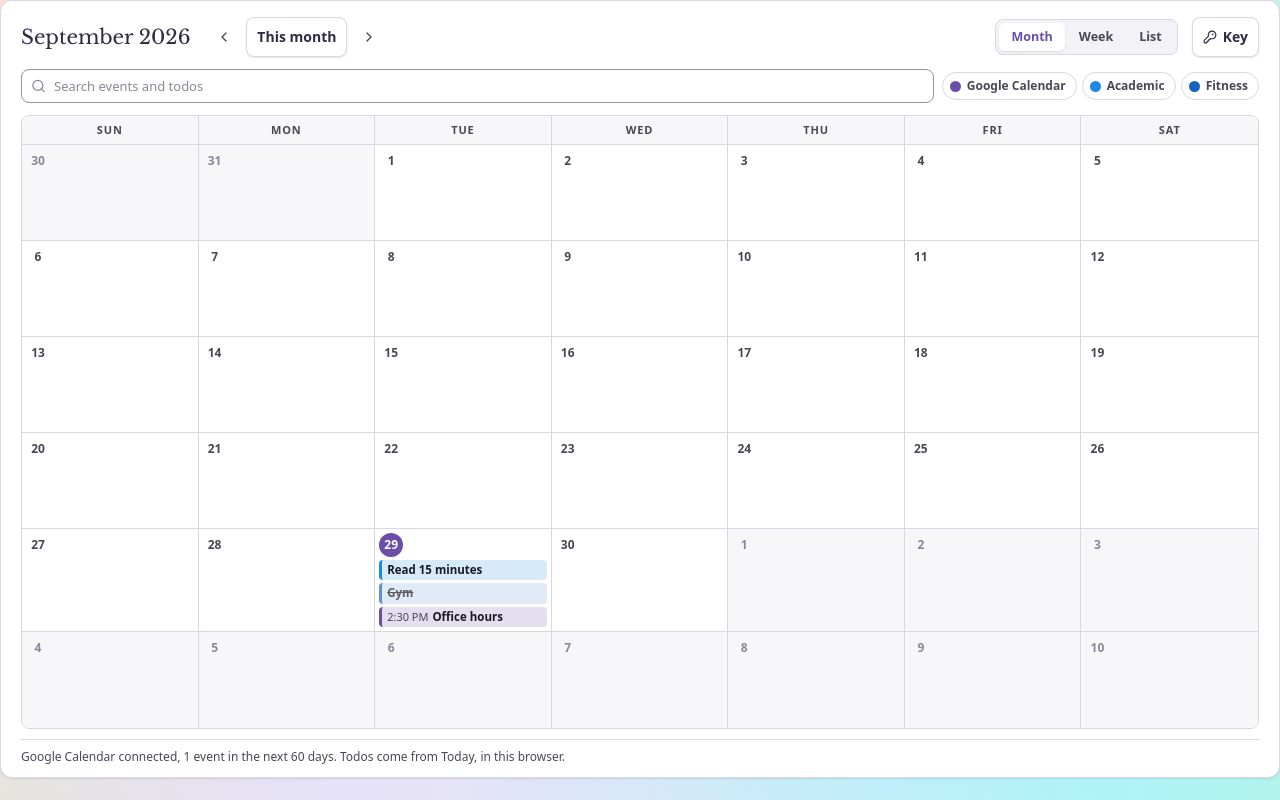
Test case: the full calendar, ported from the technical instructions master calendar › shows todos beside the events, opens either in a dialog, and switches to week and list views
Click the button titled "Office hours".
click(463, 617)  # box [379,607,547,627]
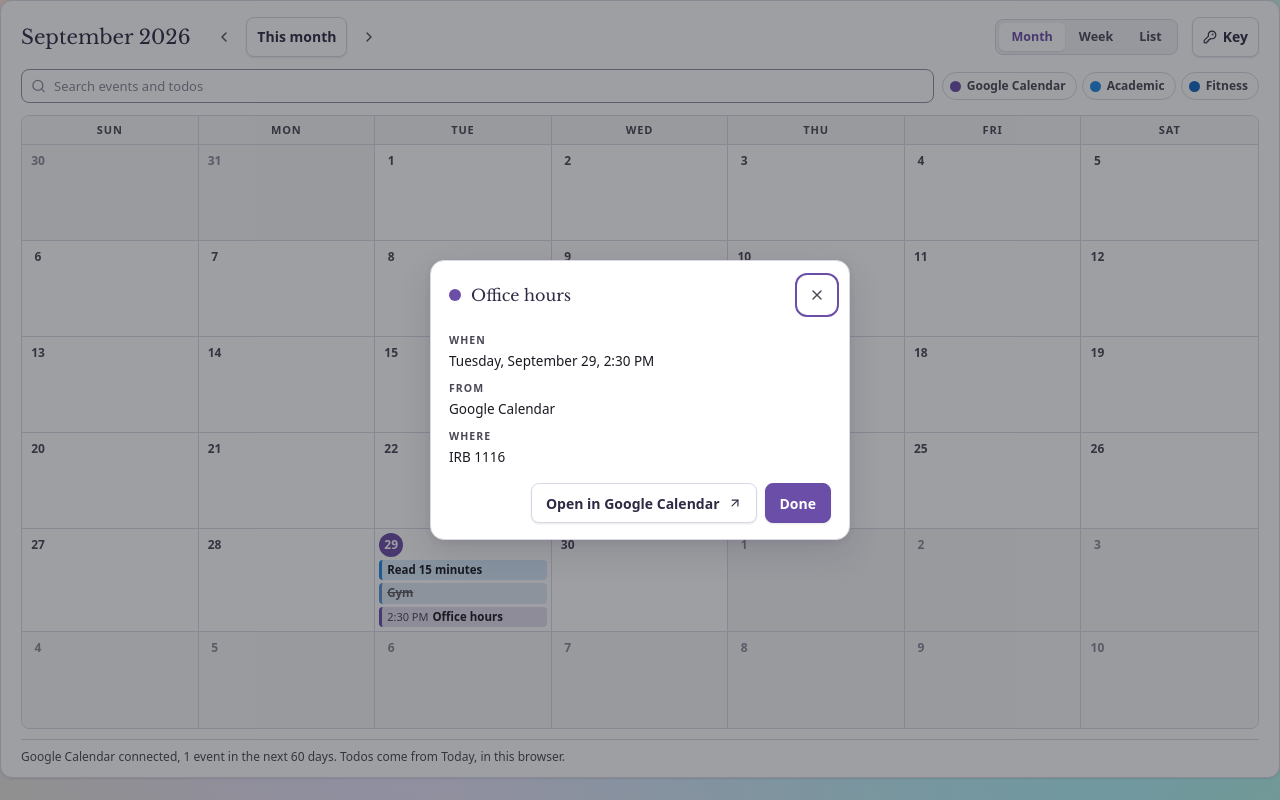
Expected: the dialog "Office hours" shows "IRB 1116", [449,448,505,466]
Click the button "Done".
click(798, 503)  # box [764,483,831,523]
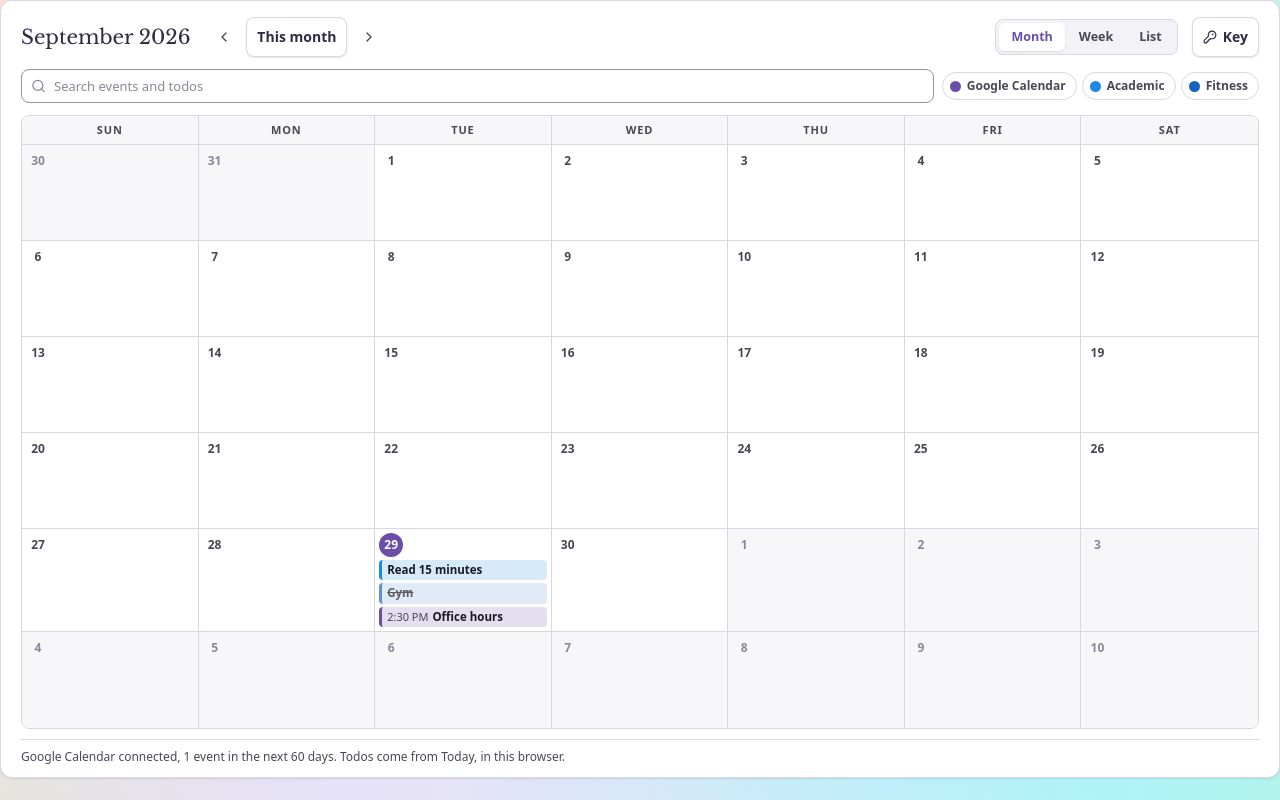
Expected: the dialog is gone
Click the button "Week".
click(1096, 37)  # box [1067,23,1125,51]
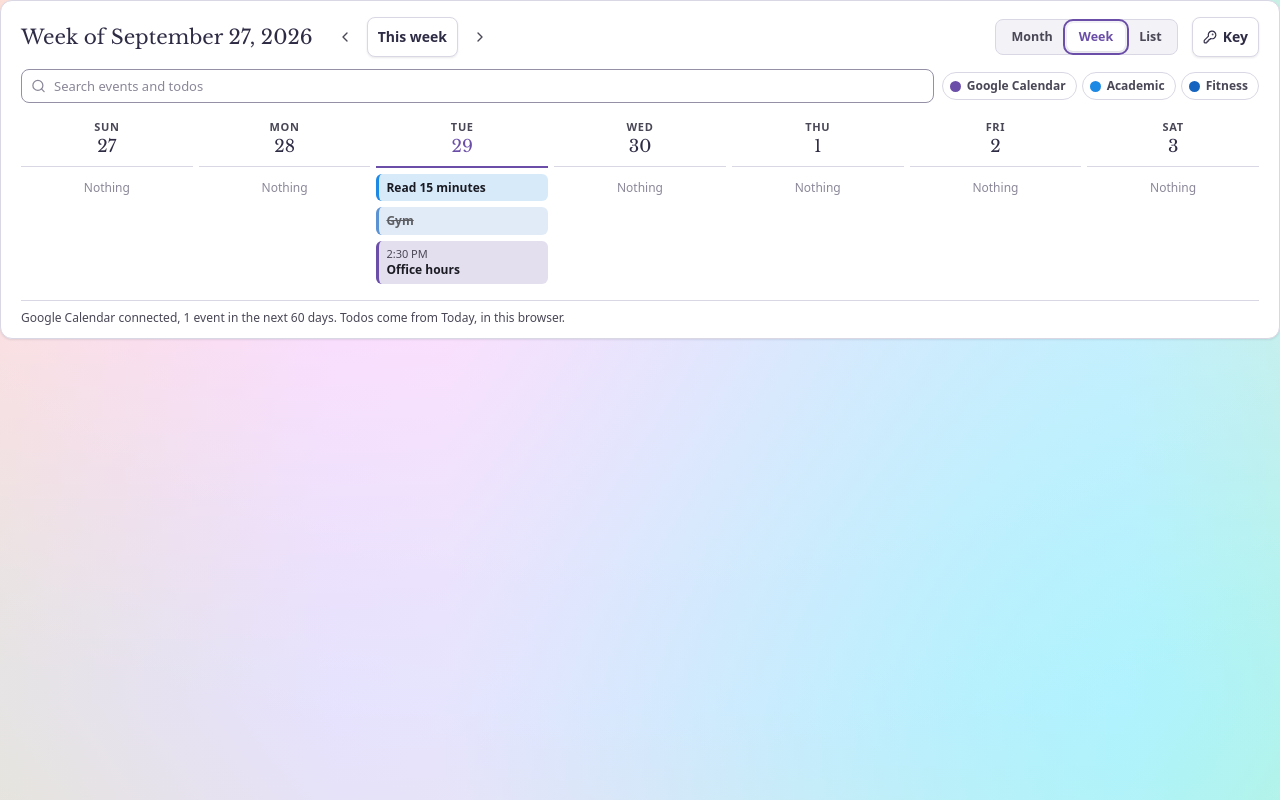
Expected: the button named "Next week" is shown, [462,19,498,55]
Expected: the number of elements with class "kcal-wcol" is 7
Expected: the element with class "kcal-wcol" shows "Office hours", [376,241,548,284]
Click the button "List".
click(1150, 37)  # box [1127,23,1174,51]
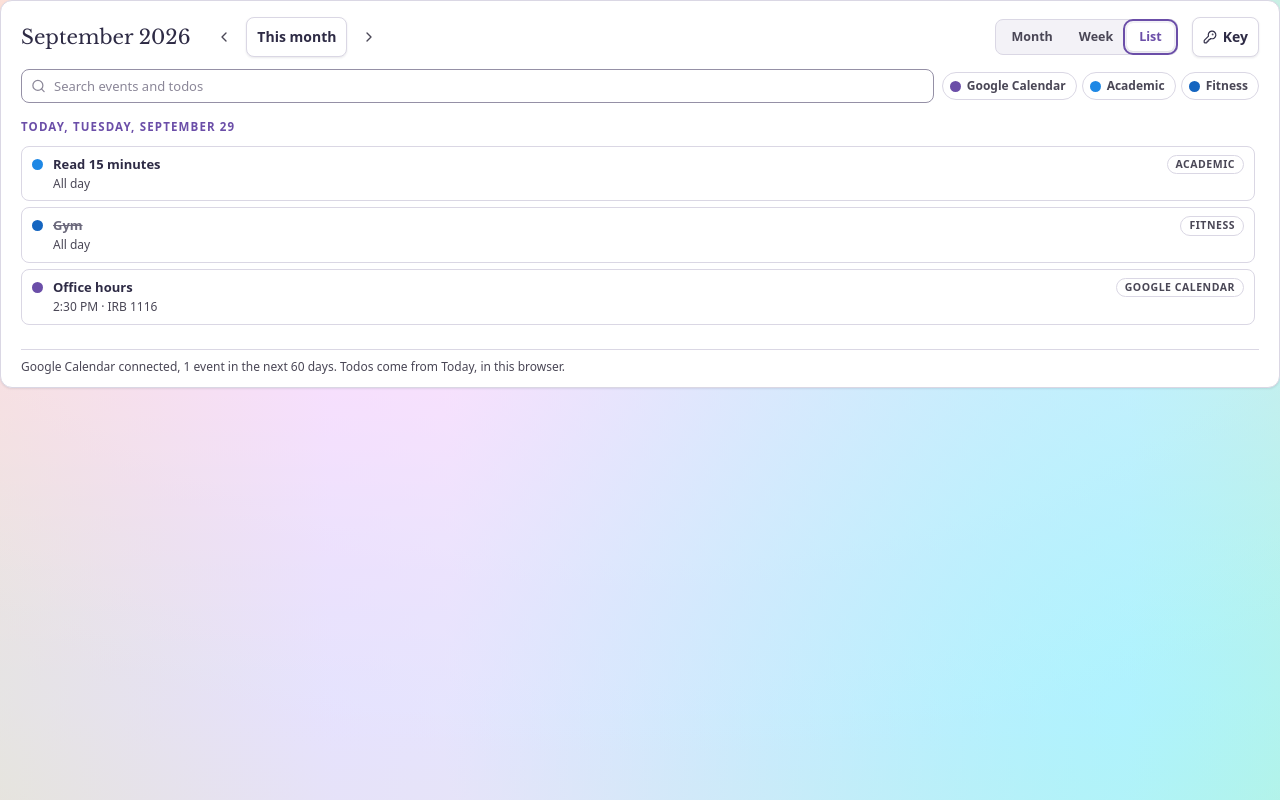
Expected: the heading "Today, Tuesday, September 29" is shown, [21,115,1255,140]
Expected: the button "Gym All day Fitness" is shown, [21,207,1255,263]
